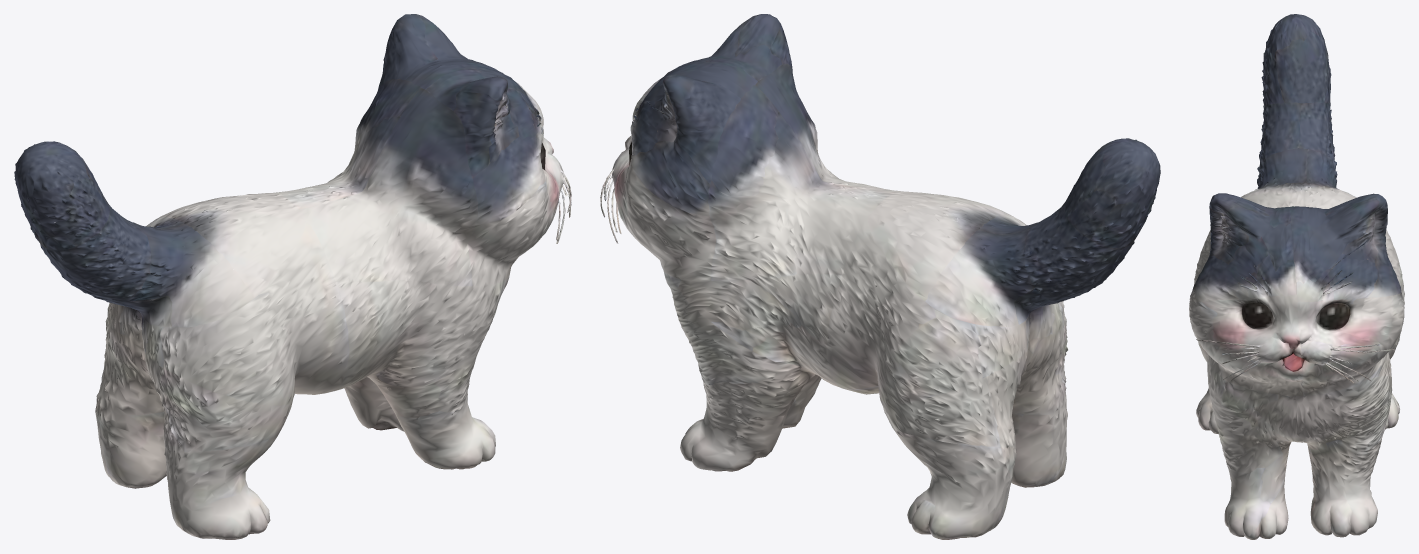
File: HACHIWA.glb
The picture shows the model from 3 angles, left to right: view 1: azimuth 30°, elevation 25°; view 2: azimuth 150°, elevation 25°; view 3: azimuth 270°, elevation 25°; orthographic projection. The views are drawn at different scales.
Visible parts, largest first — view 1: tripo_node_84a224aa-b64e-4b87-8ac6-05e588632769; view 2: tripo_node_84a224aa-b64e-4b87-8ac6-05e588632769; view 3: tripo_node_84a224aa-b64e-4b87-8ac6-05e588632769.
Boxes of the visible parts, bbox=[...] form: tripo_node_84a224aa-b64e-4b87-8ac6-05e588632769: bbox=[14, 14, 571, 539]; tripo_node_84a224aa-b64e-4b87-8ac6-05e588632769: bbox=[600, 14, 1160, 539]; tripo_node_84a224aa-b64e-4b87-8ac6-05e588632769: bbox=[1189, 14, 1404, 539].
Size of the model in its own units: 1.41 by 0.9989 by 0.5644.
Materials: 1 (1 with a texture image).
